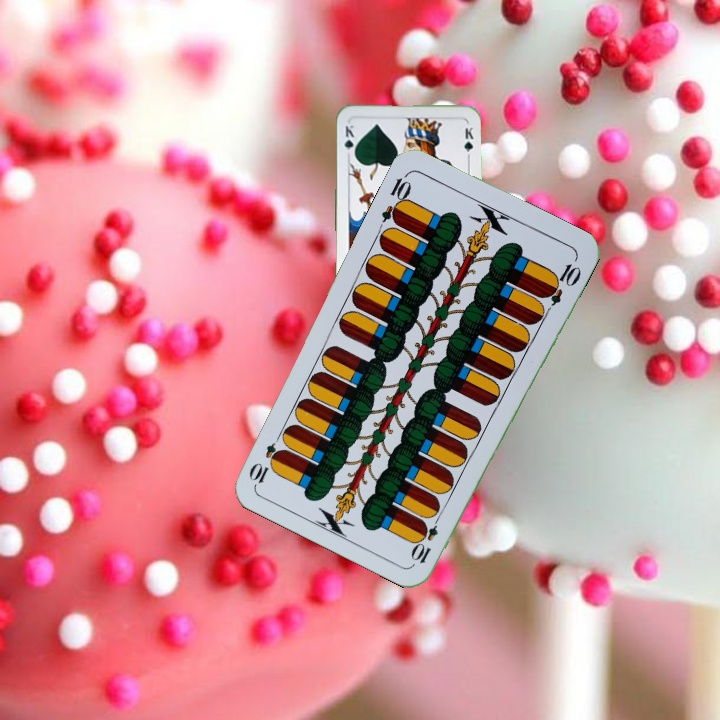E10: (377, 169, 414, 227), (409, 509, 444, 566)
GK: (341, 121, 357, 160)
